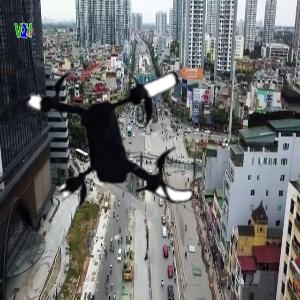drone: (26, 38, 222, 234)
